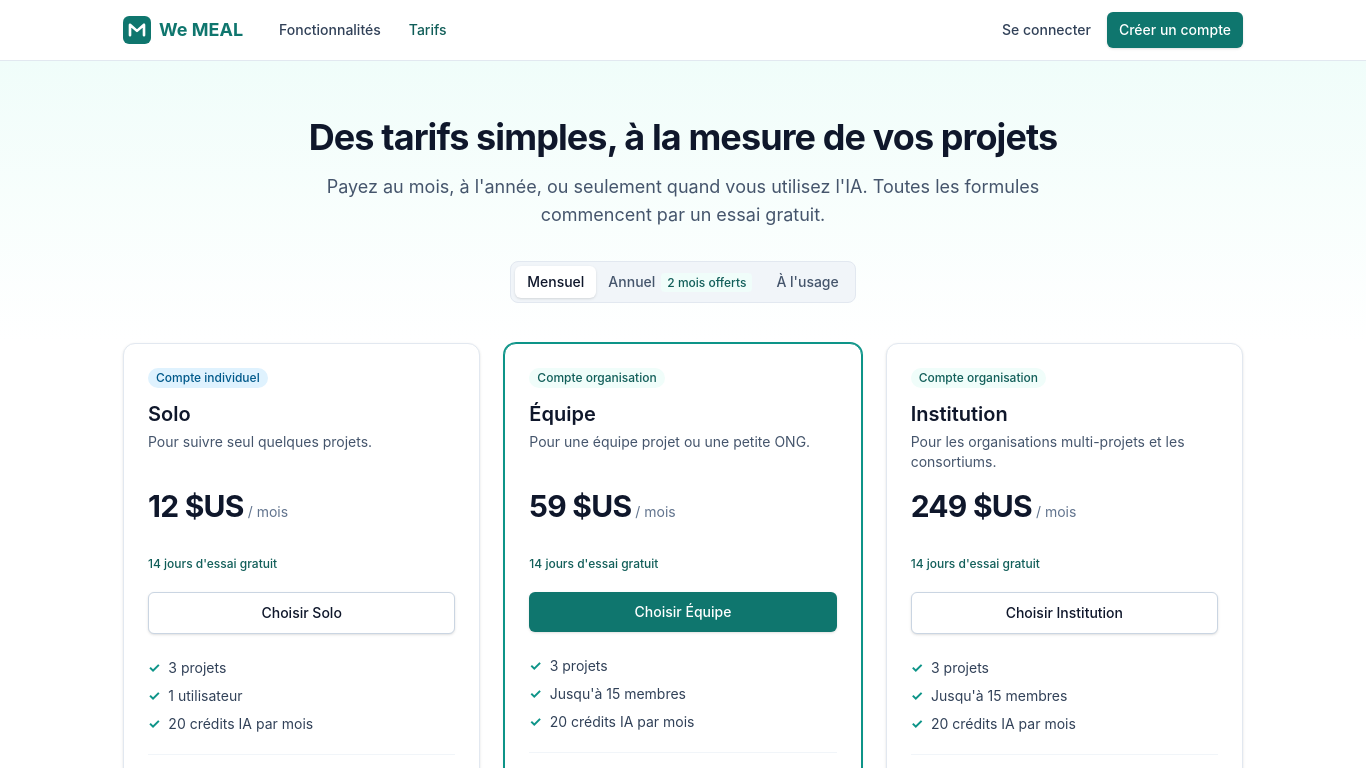
it: affiche les formules selon le cycle et mène à l'inscription
Expected: the text "Compte individuel" is shown, x1=148 y1=368 x2=268 y2=388
Expected: the text "/ mois" next to "12 $US" is shown, x1=248 y1=503 x2=288 y2=520
Step 1. Click the radio button labelled "Annuel2 mois offerts" → (680, 282), box x1=596 y1=266 x2=764 y2=298
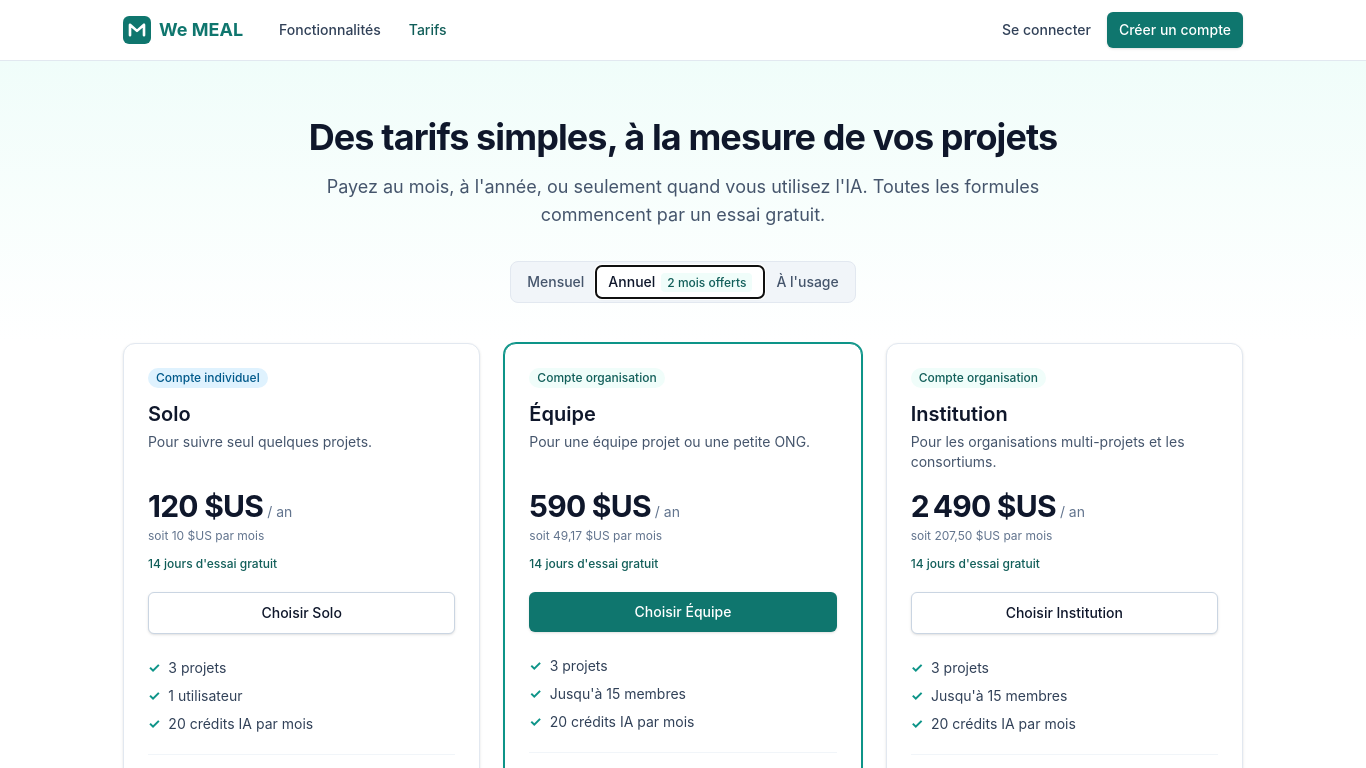
Now the text "/ an" next to "590 $US" is shown, box x1=655 y1=503 x2=680 y2=520
Step 2. Click the link "Choisir Équipe" → (683, 612), box x1=529 y1=592 x2=837 y2=632
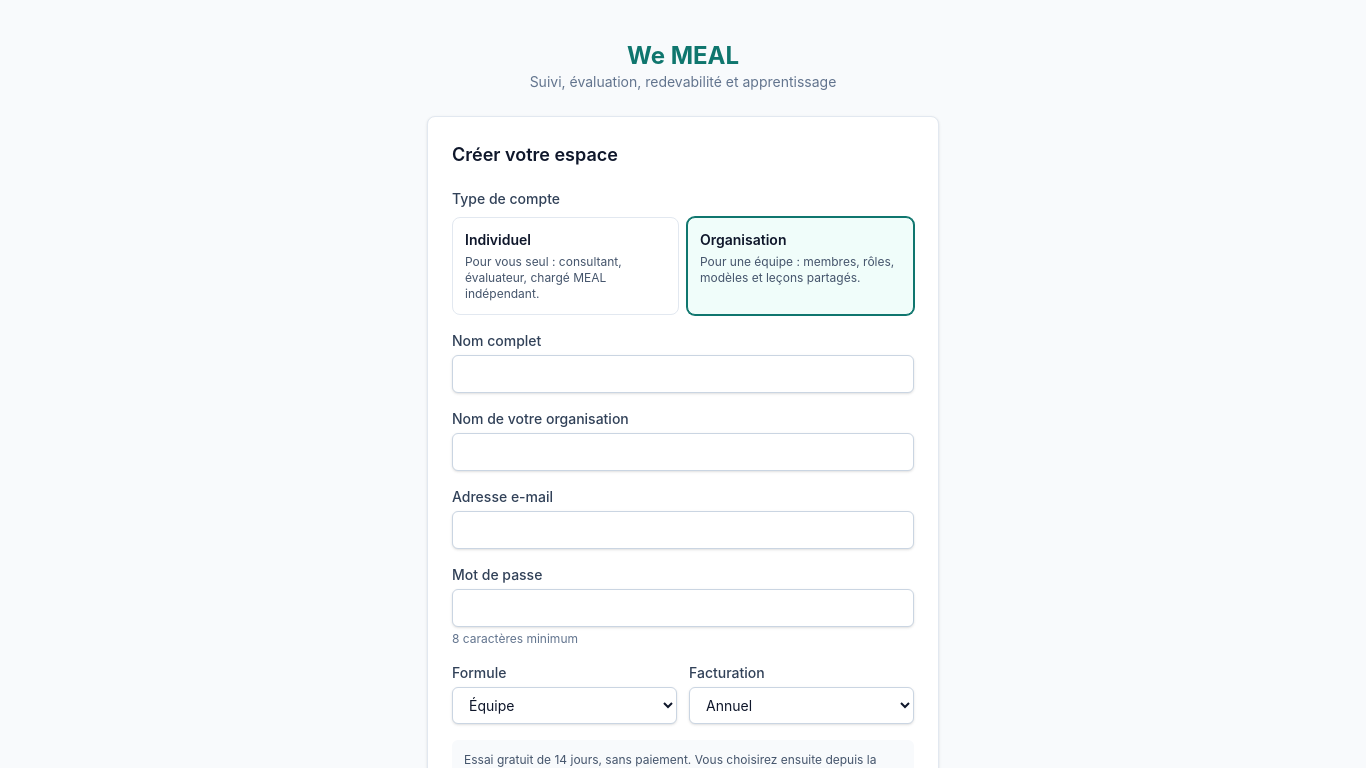
Now the field labelled "Nom de votre organisation" is shown, box x1=452 y1=433 x2=914 y2=471
